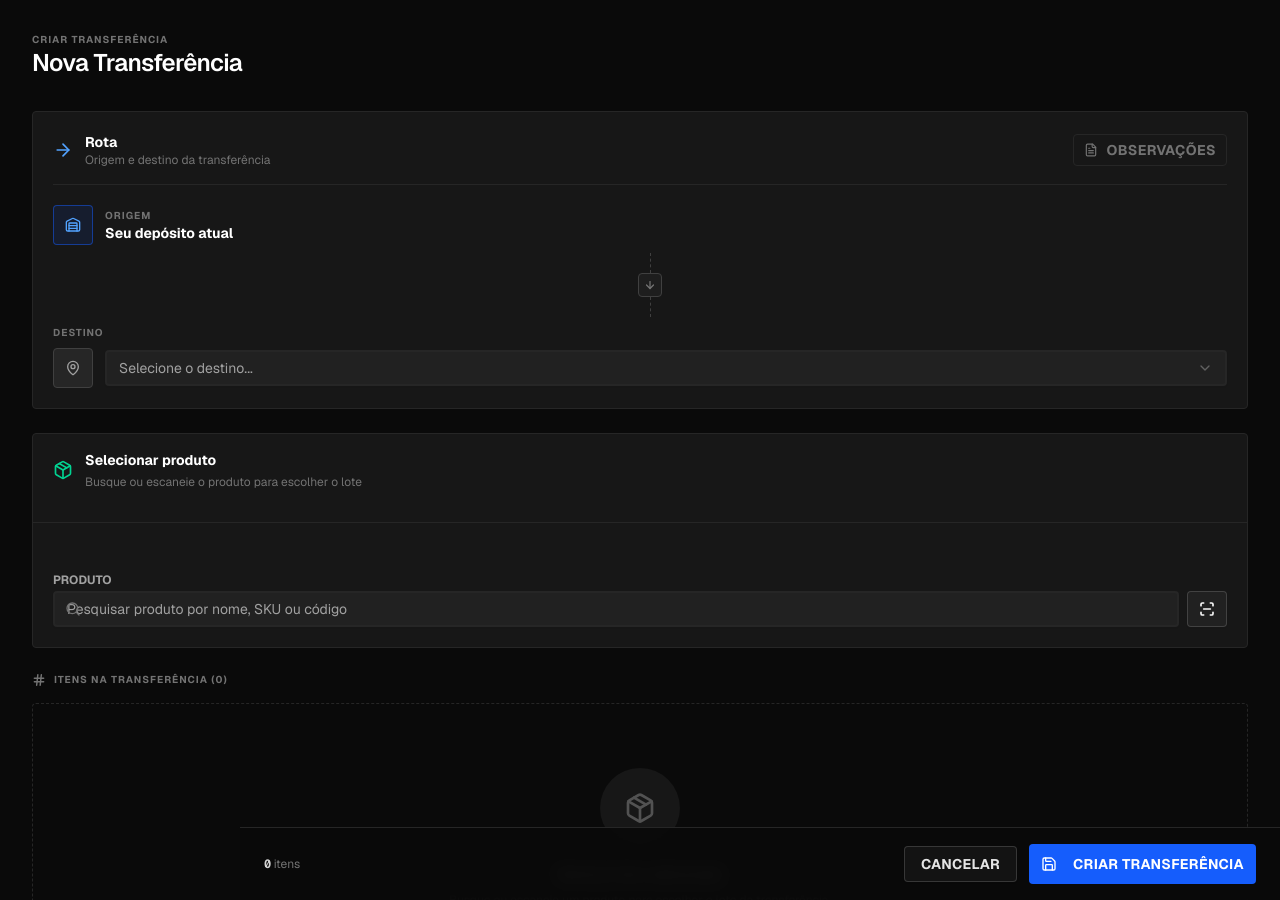
Test: NewTransferView › shows validation errors when submitting empty form
The width and height of the screenshot is (1280, 900).
Click the button "CRIAR TRANSFERÊNCIA" at (1143,864), box [1029,844,1256,884]
(page scrolled)
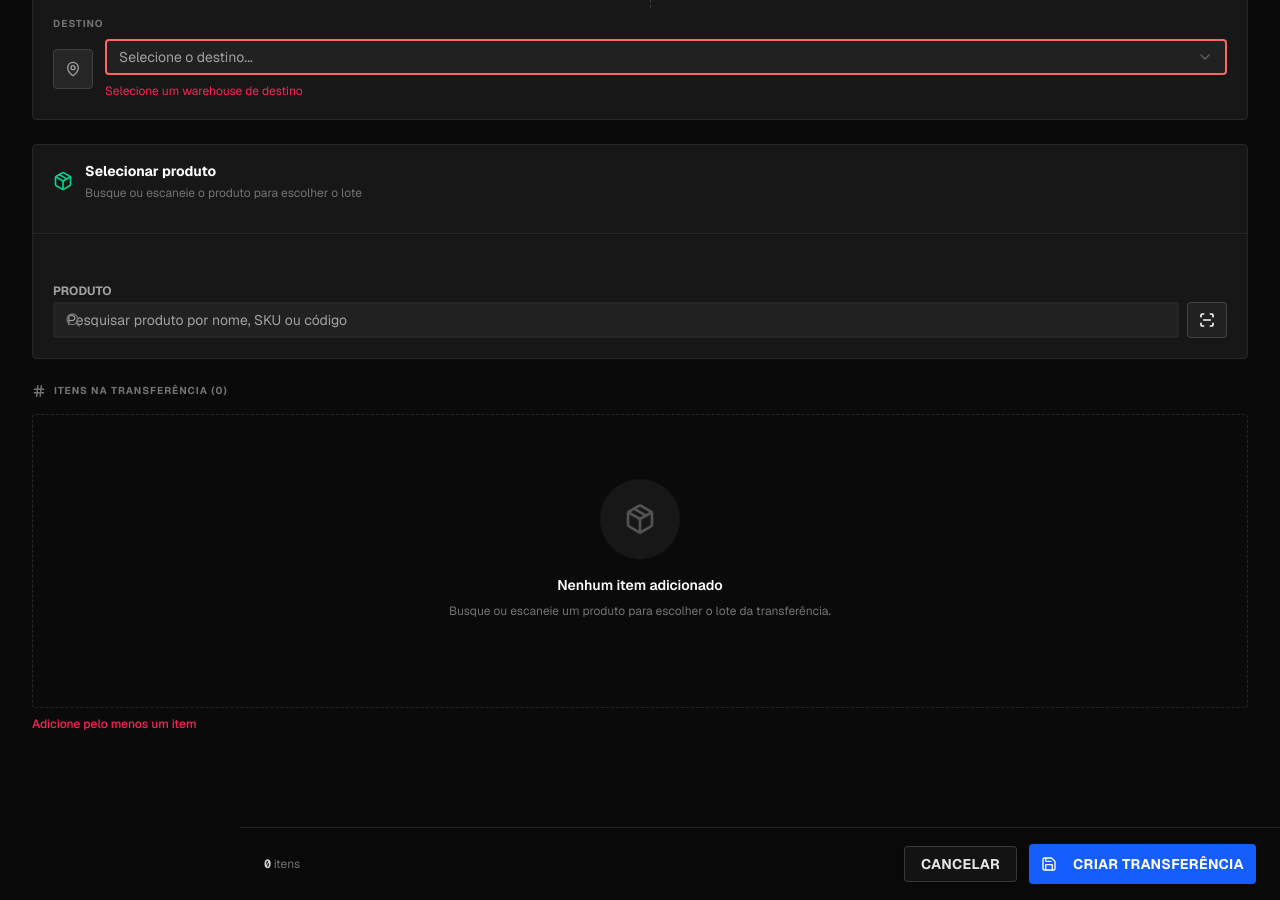
Now the text "Selecione um warehouse de destino" is shown, box [105,83,303,99]
Now the text "Adicione pelo menos um item" is shown, box [32,716,196,732]
